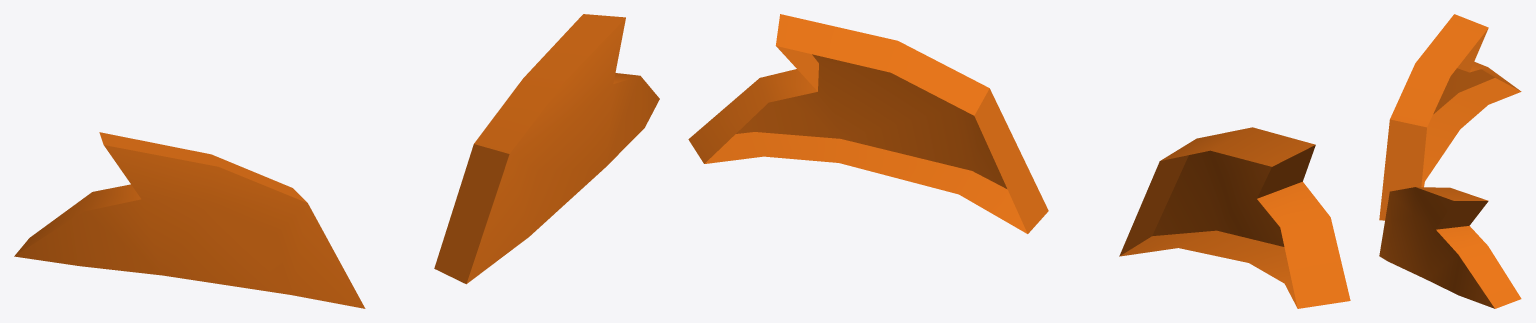
File: Brow_Orange_6.fbx
3 renders of one model, left to right at view 1: azimuth 30°, elevation 25°; view 2: azimuth 150°, elevation 25°; view 3: azimuth 270°, elevation 25°, orthographic. The views are drawn at different scales.
Parts seen in each view (by area): view 1: Brow_Orange_6; view 2: Brow_Orange_6; view 3: Brow_Orange_6.
Boxes of the visible parts, bbox=[...] form: Brow_Orange_6: bbox=[14, 14, 659, 308]; Brow_Orange_6: bbox=[688, 14, 1350, 308]; Brow_Orange_6: bbox=[1379, 14, 1521, 308].
Size of the model in its own units: 40.86 by 10.89 by 10.63.
